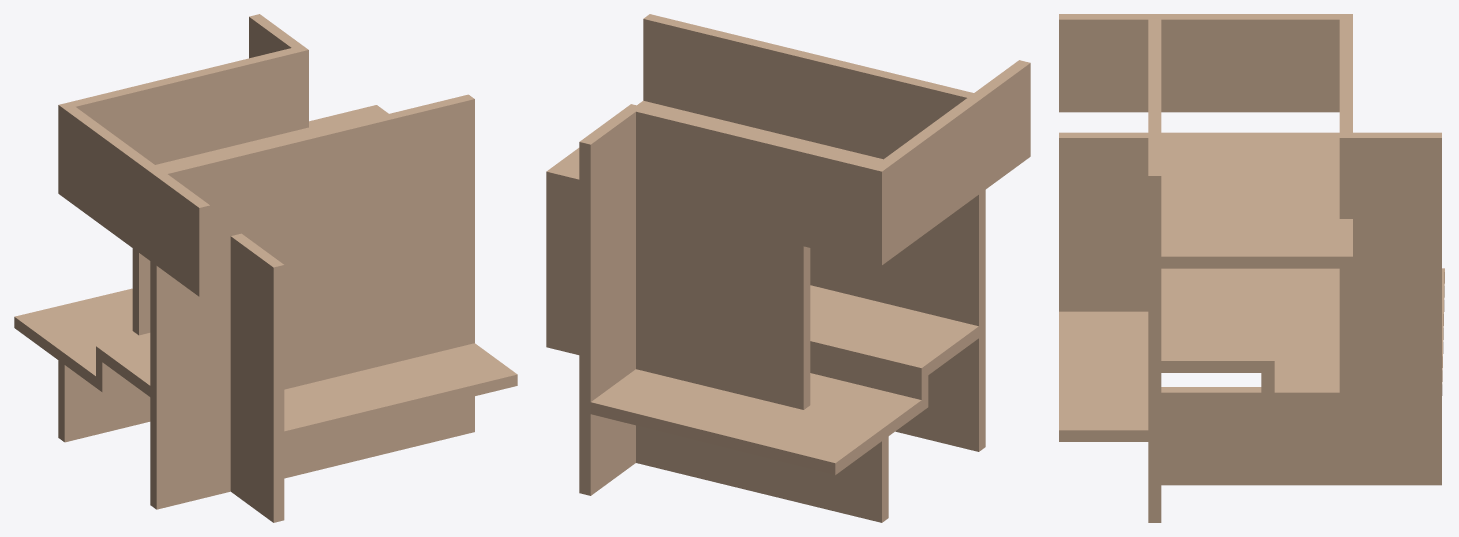
3 renders of one model, left to right at view 1: azimuth 30°, elevation 25°; view 2: azimuth 150°, elevation 25°; view 3: azimuth 270°, elevation 25°, orthographic. The views are drawn at different scales.
Bounding box in the file's own units: 1 × 1 × 1.01.
